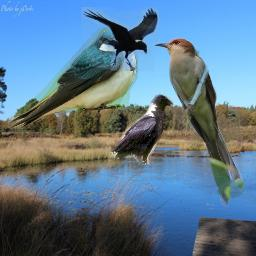Crow: (81, 7, 159, 71), (108, 92, 174, 165)
Cuckoo: (154, 37, 244, 207)
Swallow: (8, 27, 138, 129)
